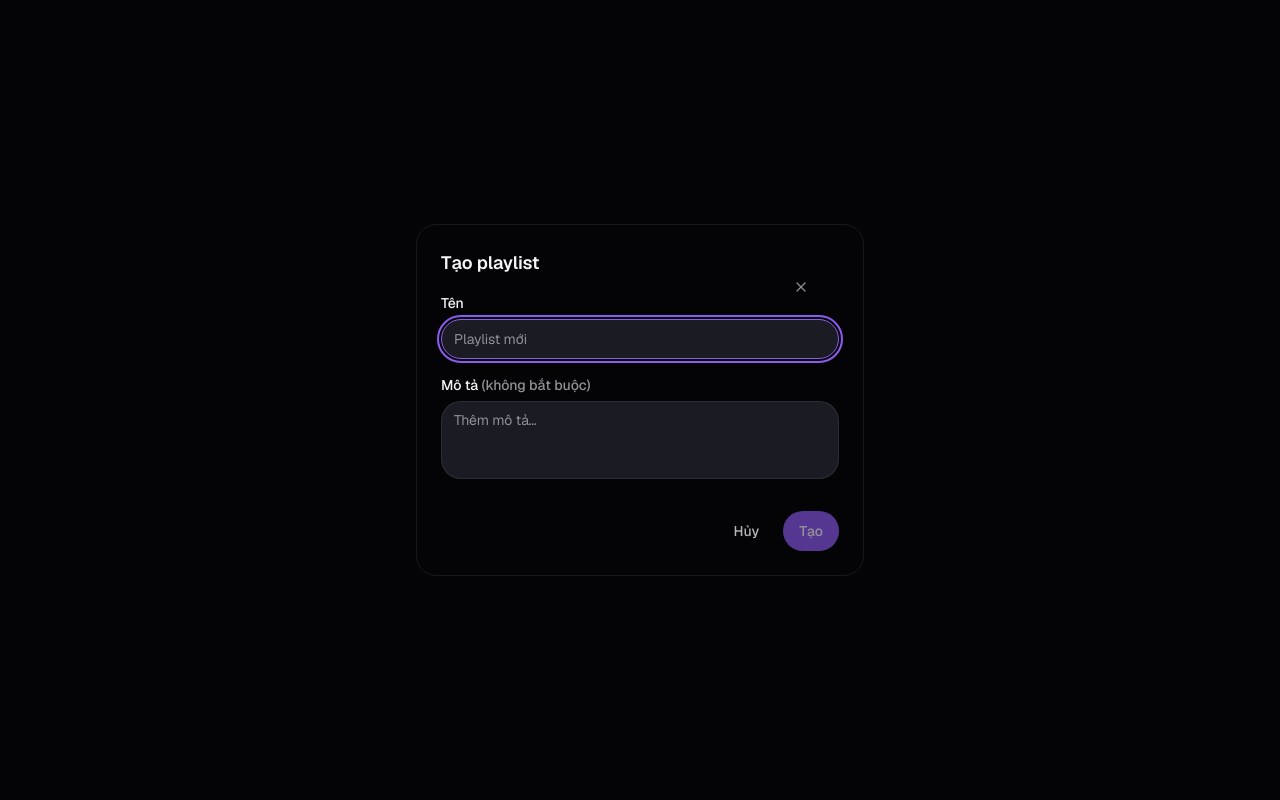
CreatePlaylistDialog › shows error when creation fails
Type "My Playlist" into the field labelled "Tên" at (640, 339), box [441,319,839,359]
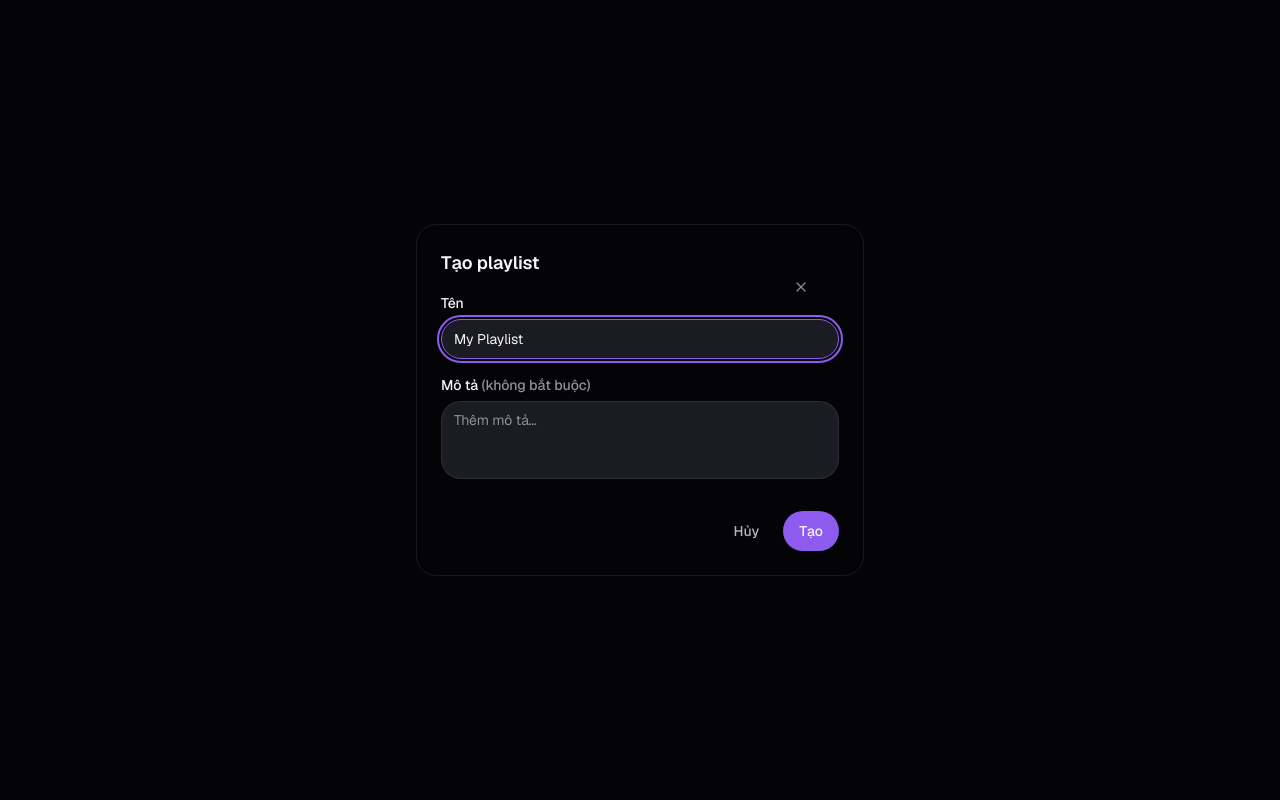
Click the button "Tạo" at (811, 531), box [783,511,839,551]
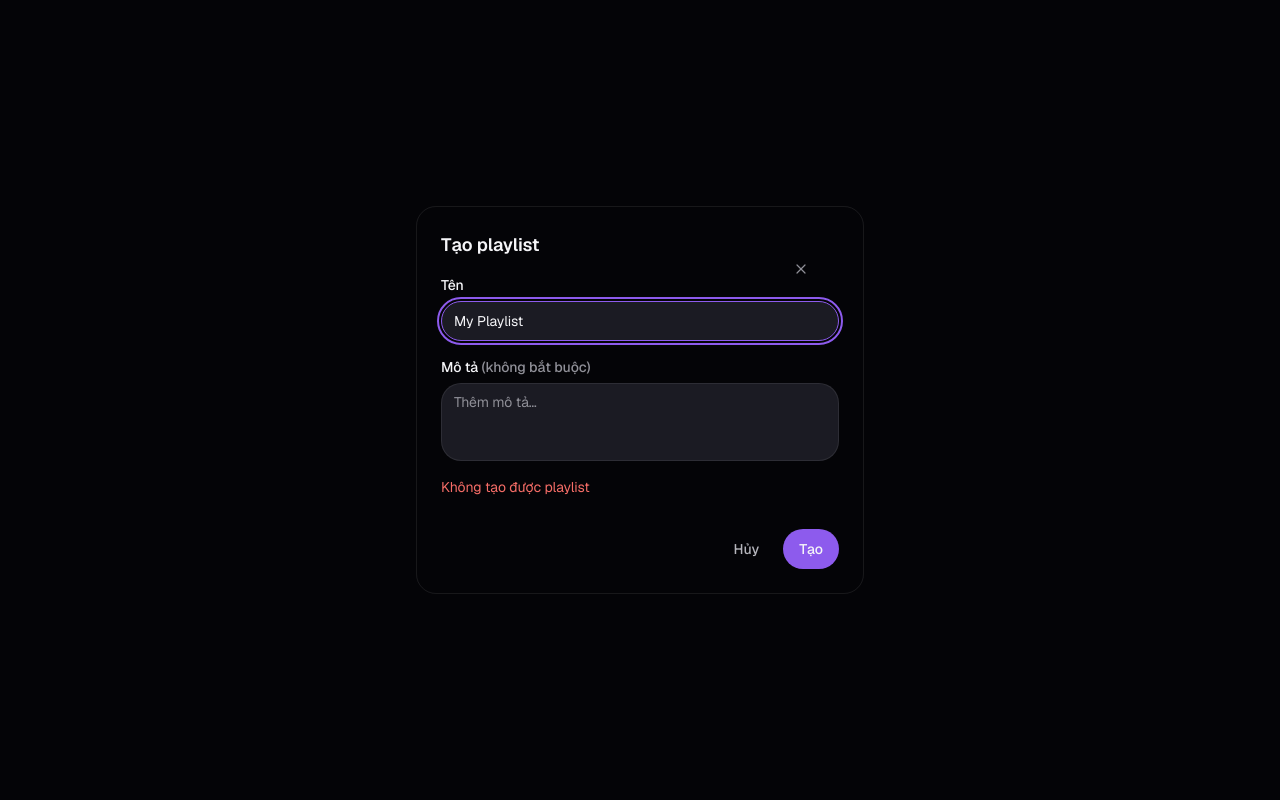
Check: the text "Không tạo được playlist" is shown, box [441,478,590,496]
